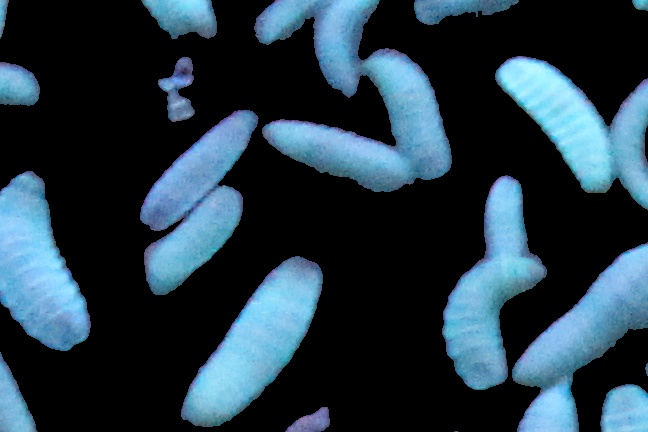larvae: (180, 255, 323, 428), (512, 245, 648, 388), (494, 56, 614, 195), (1, 171, 92, 349), (141, 104, 260, 226), (441, 251, 545, 389), (145, 182, 243, 303), (363, 49, 452, 180), (268, 122, 417, 196), (316, 1, 375, 99), (611, 73, 647, 213), (481, 175, 528, 258), (136, 1, 222, 42), (1, 354, 45, 432), (516, 384, 587, 432), (253, 1, 316, 45), (1, 59, 49, 111), (601, 382, 647, 432)
